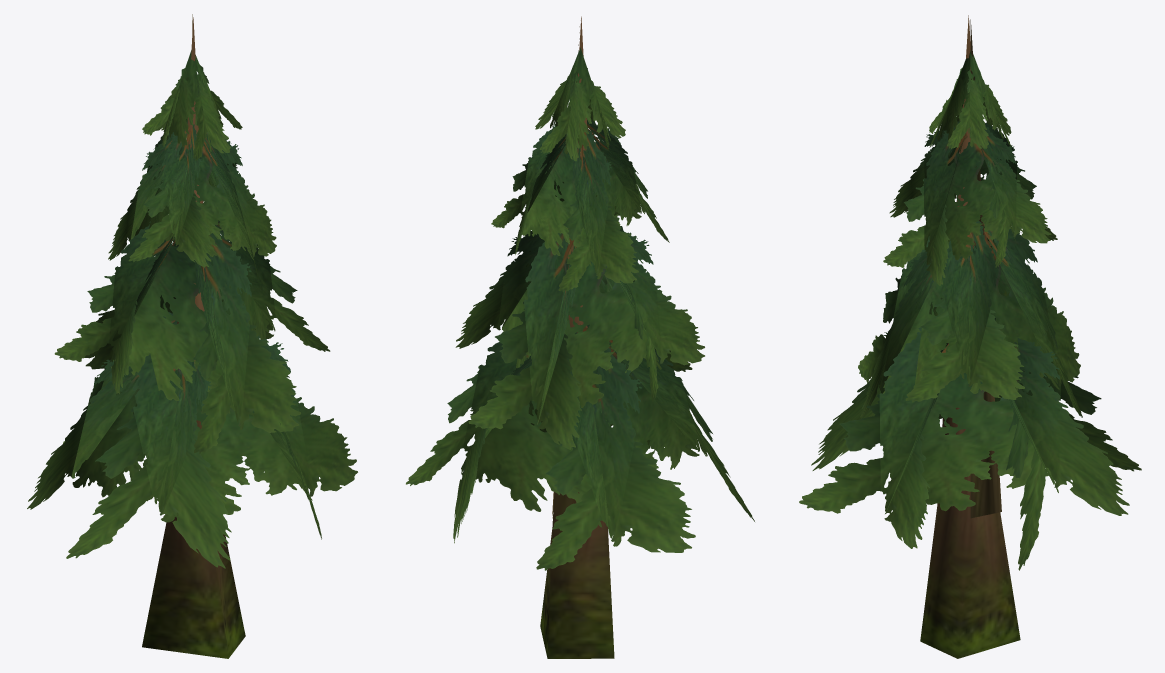
The model's file is zw_shu_tasong_01_01.FBX.
3 renders of one model, left to right at view 1: azimuth 30°, elevation 25°; view 2: azimuth 150°, elevation 25°; view 3: azimuth 270°, elevation 25°, orthographic.
Parts seen in each view (by area): view 1: zw_shu_tasong_01_01; view 2: zw_shu_tasong_01_01; view 3: zw_shu_tasong_01_01.
Boxes of the visible parts, x1,y1,x2,y2 form: zw_shu_tasong_01_01: [27, 14, 357, 658]; zw_shu_tasong_01_01: [406, 16, 754, 658]; zw_shu_tasong_01_01: [799, 15, 1141, 658].
Bounding box in the file's own units: 670 × 1271 × 667.
